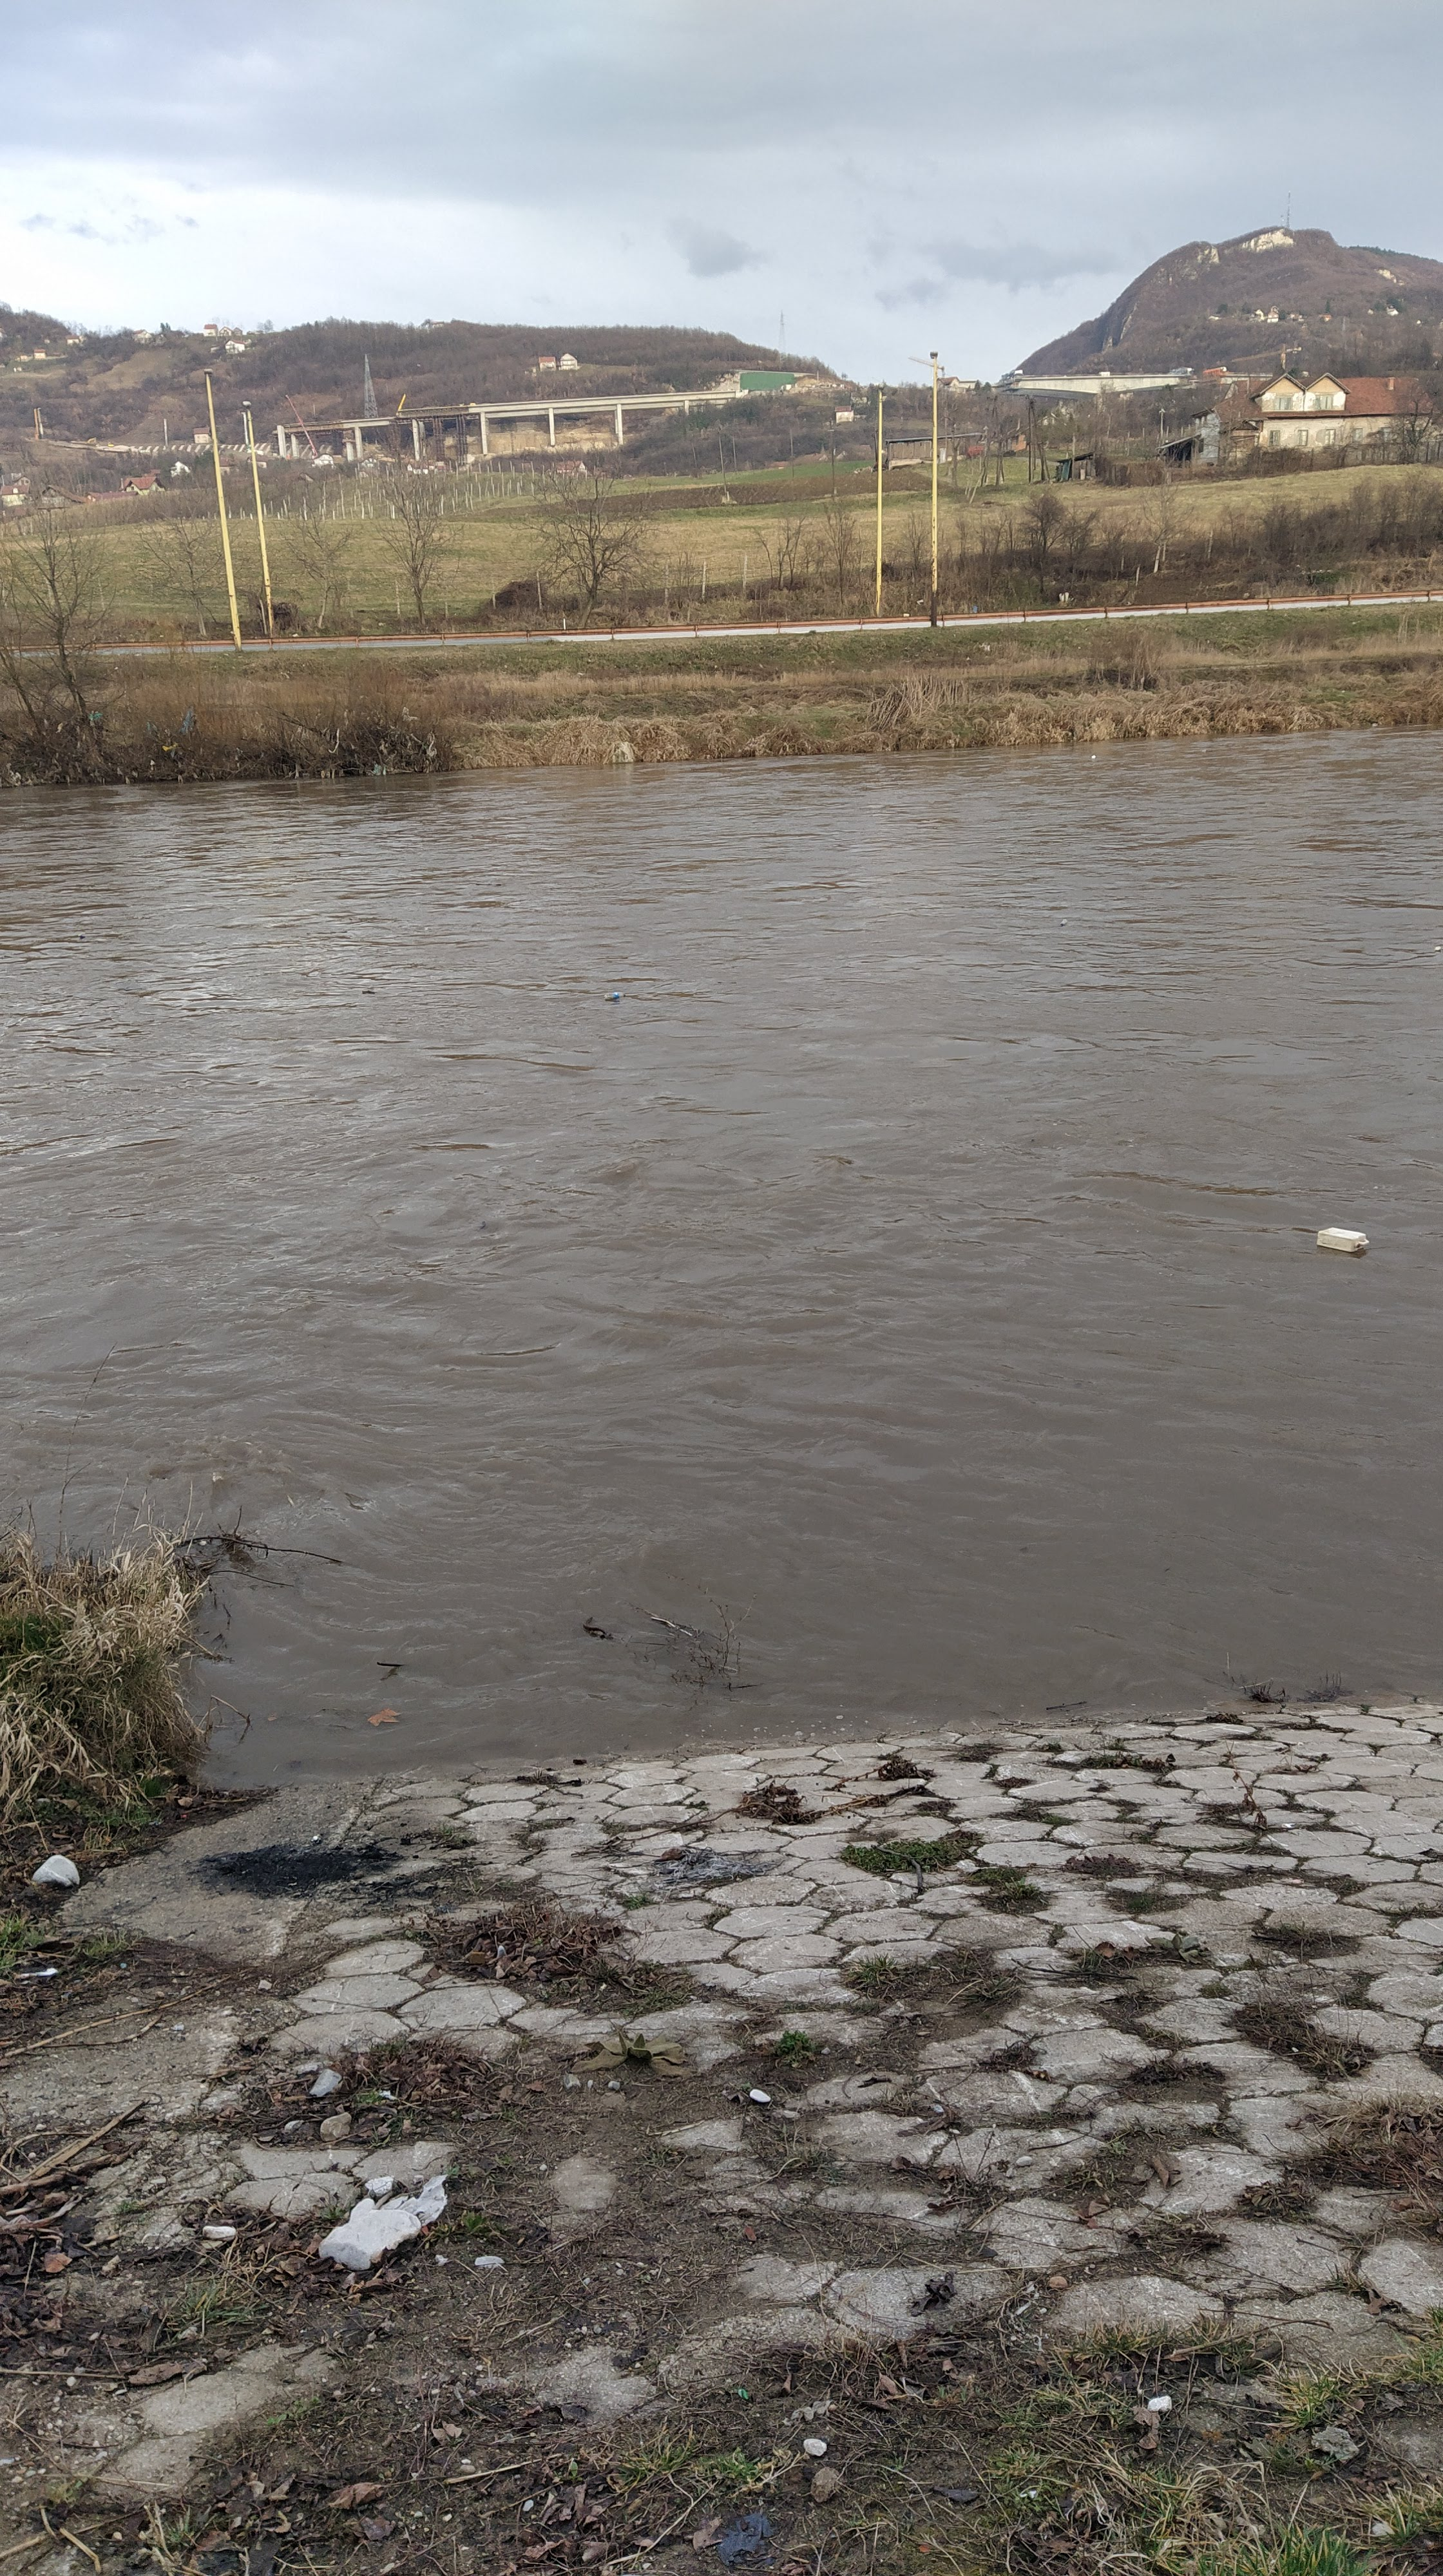Plastic Bottle: (604, 991, 625, 998), (1061, 918, 1068, 925)
